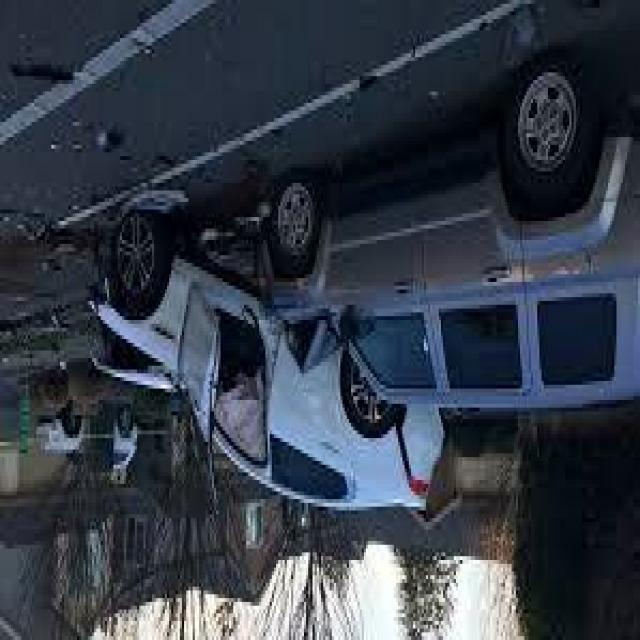severe: (0, 636, 2, 640)
